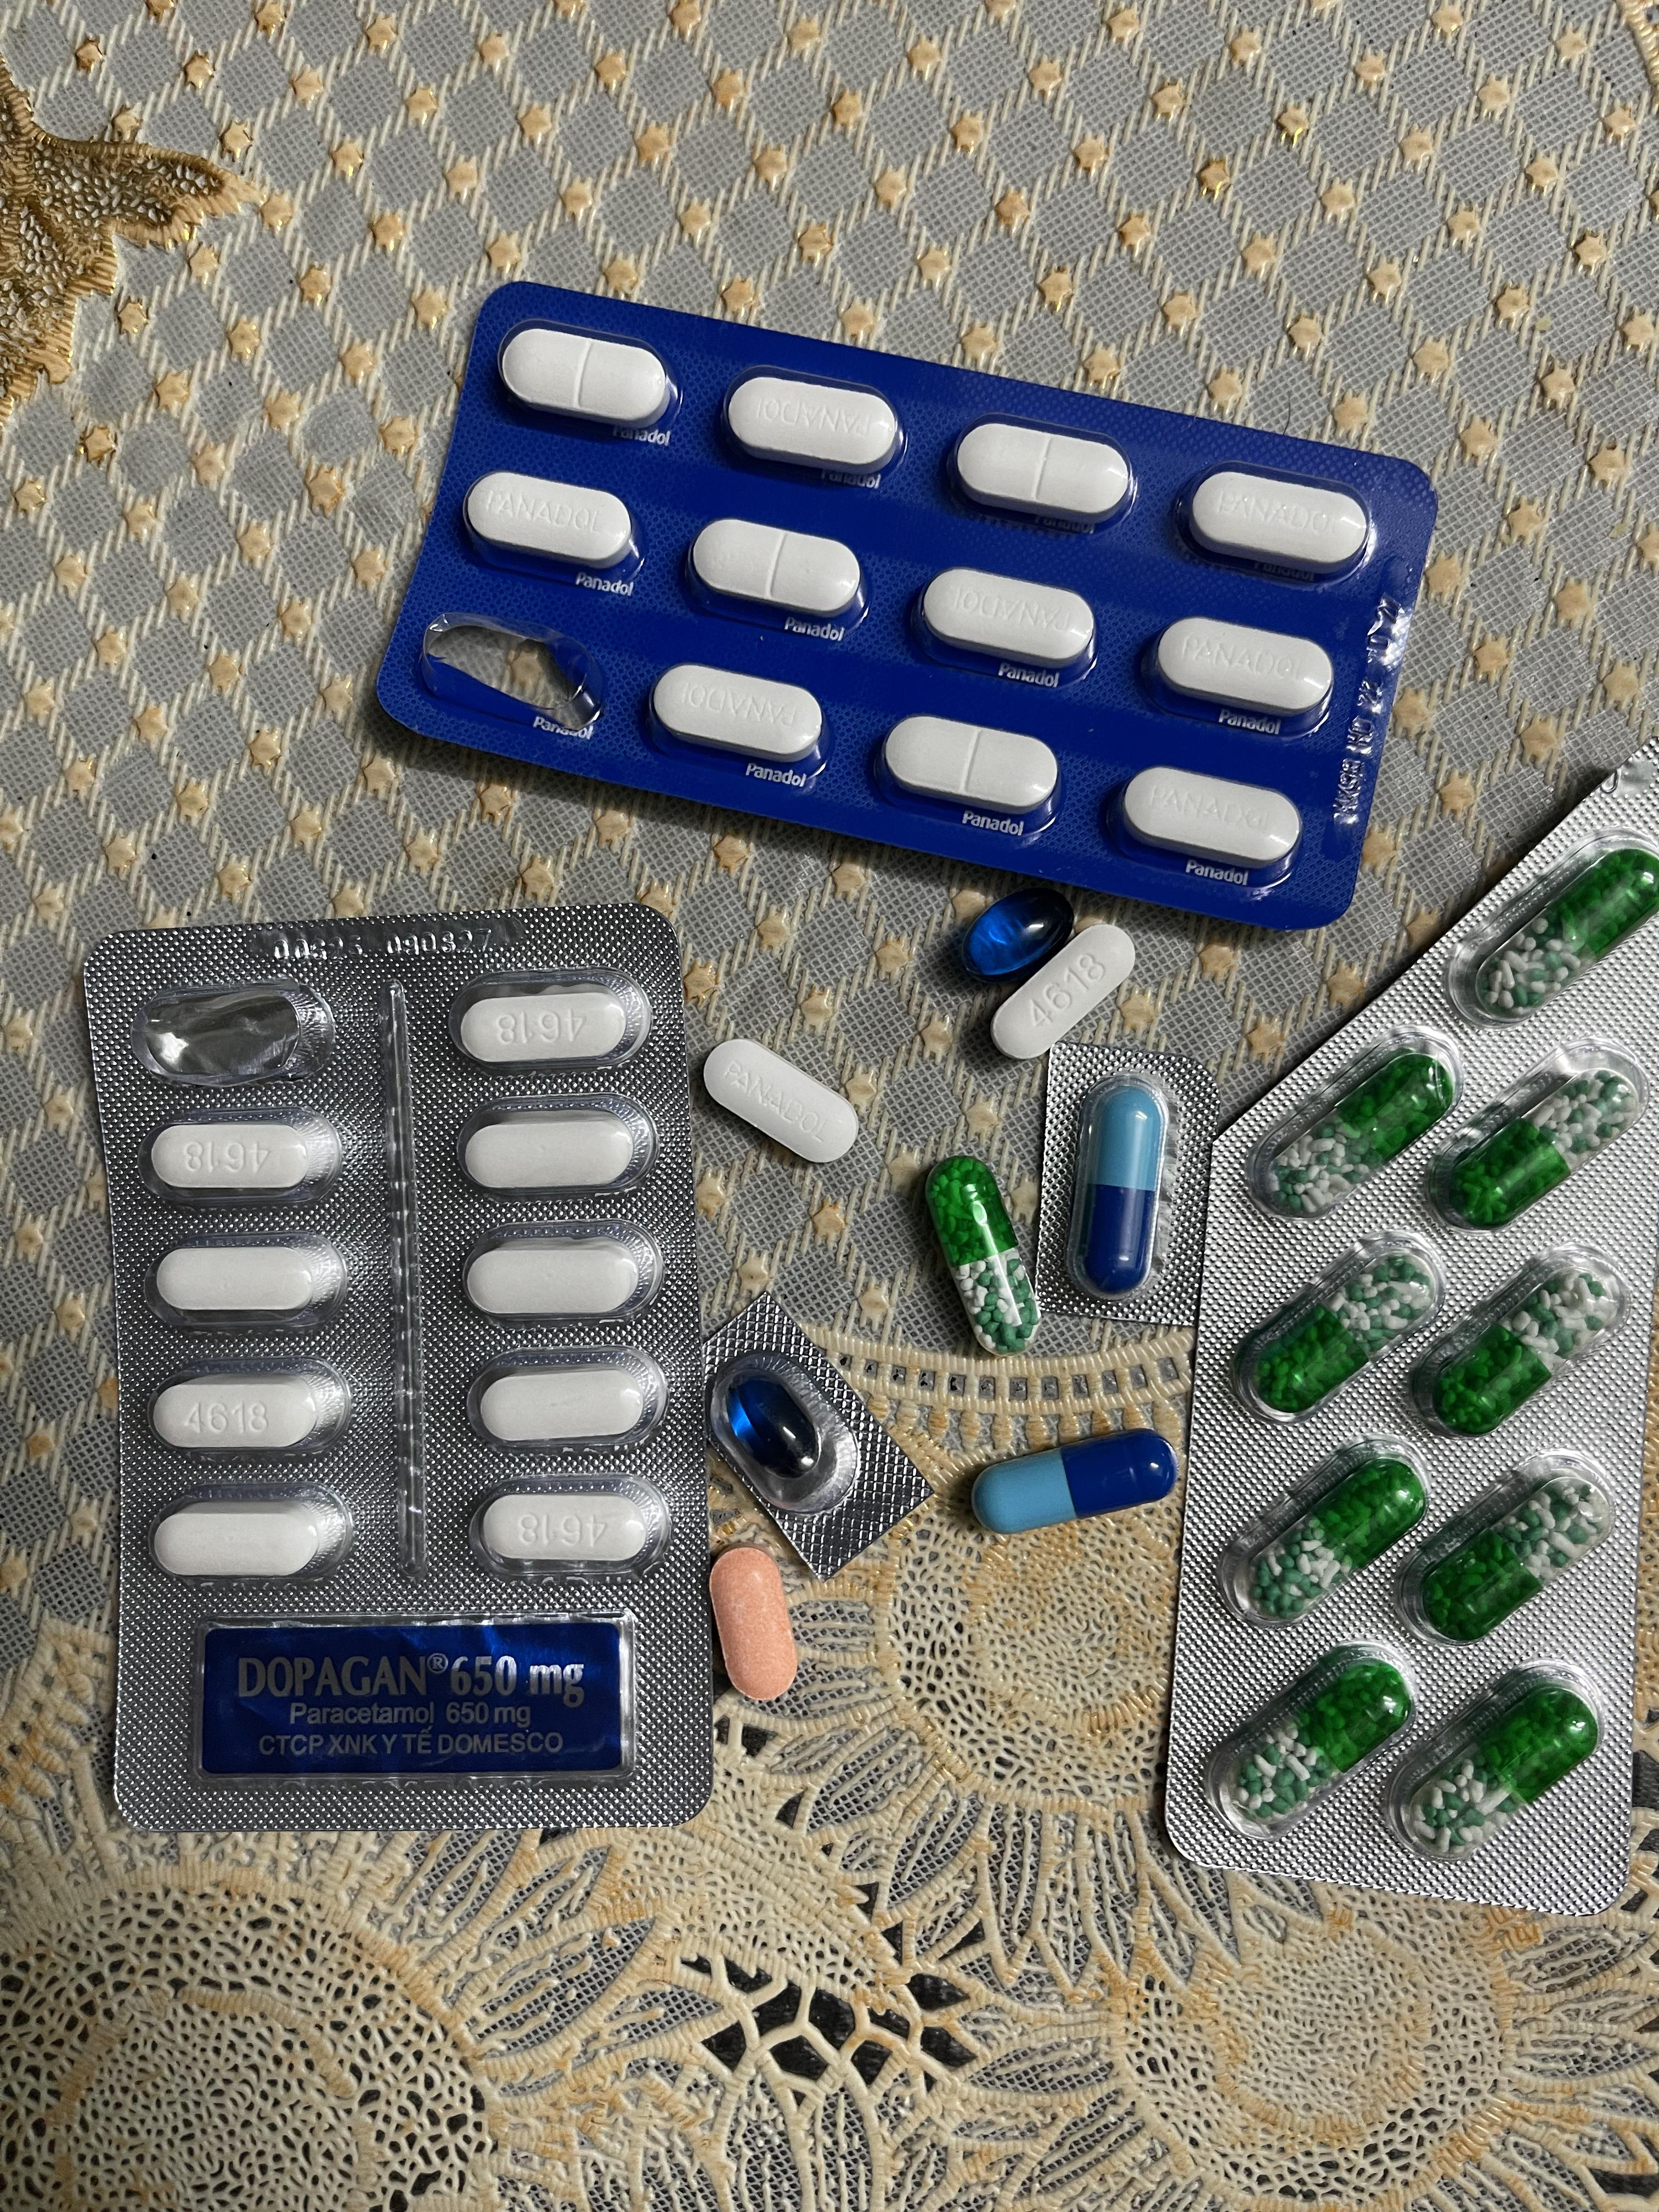Lincomyxin_500mg: (958, 885, 1077, 975), (734, 1378, 823, 1477)
Loratadine_10mg: (709, 1545, 795, 1698)
Paracetamol_350mg: (1182, 467, 1371, 580), (462, 469, 643, 587), (950, 418, 1138, 531), (723, 369, 908, 484), (875, 716, 1061, 827), (1114, 770, 1300, 881), (913, 566, 1096, 679), (500, 320, 680, 435), (1150, 617, 1333, 728), (708, 1038, 866, 1165), (685, 517, 863, 631), (650, 664, 826, 770)
Paracetamol_500mg: (993, 921, 1138, 1052), (474, 1486, 667, 1573), (152, 1494, 347, 1578), (152, 1371, 347, 1453), (465, 1237, 657, 1318), (150, 1242, 347, 1318), (148, 1118, 340, 1193), (472, 1367, 655, 1446), (458, 989, 643, 1066), (462, 1115, 645, 1191)
Paracetamol_650mg: (1406, 1245, 1631, 1446), (1394, 1447, 1621, 1646), (1385, 1663, 1607, 1862), (1218, 1421, 1432, 1625), (1419, 1047, 1649, 1224), (1234, 1230, 1441, 1426), (1239, 1022, 1453, 1212), (1209, 1642, 1413, 1841), (1476, 853, 1657, 1012), (922, 1157, 1039, 1353)
pill: (1065, 1075, 1178, 1292), (972, 1430, 1175, 1536)
